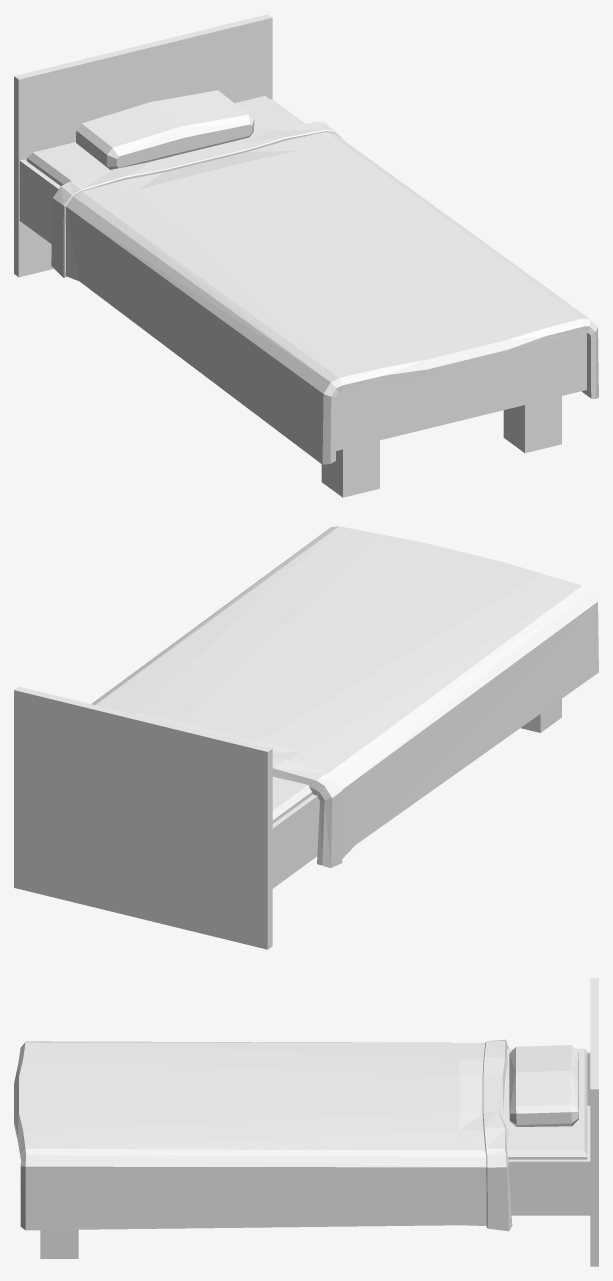
File: Prop_Bed_02.glb
The picture shows the model from 3 angles, top to bottom: view 1: azimuth 30°, elevation 25°; view 2: azimuth 150°, elevation 25°; view 3: azimuth 270°, elevation 25°; orthographic projection. The views are drawn at different scales.
Parts seen in each view (by area): view 1: Prop_Bed_02; view 2: Prop_Bed_02; view 3: Prop_Bed_02.
Boxes of the visible parts, bbox=[...] form: Prop_Bed_02: bbox=[14, 14, 598, 497]; Prop_Bed_02: bbox=[14, 526, 598, 949]; Prop_Bed_02: bbox=[14, 978, 598, 1266].
Bounding box in the file's own units: 1.04 × 0.7 × 2.09.
1 material, 1 textured.
